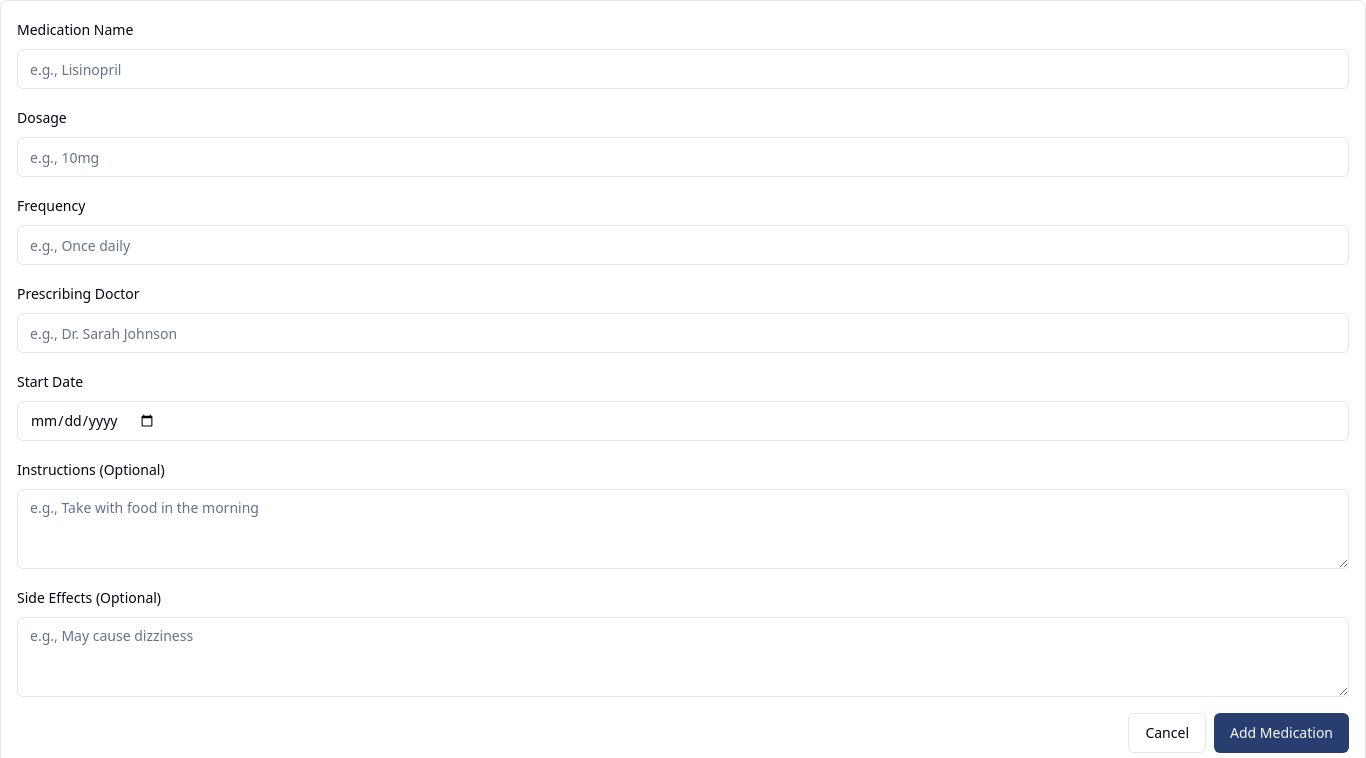
AddMedicationForm › shows validation errors for required fields
Click the button "Add Medication" at point(1282, 733), box [1214,713,1349,753]
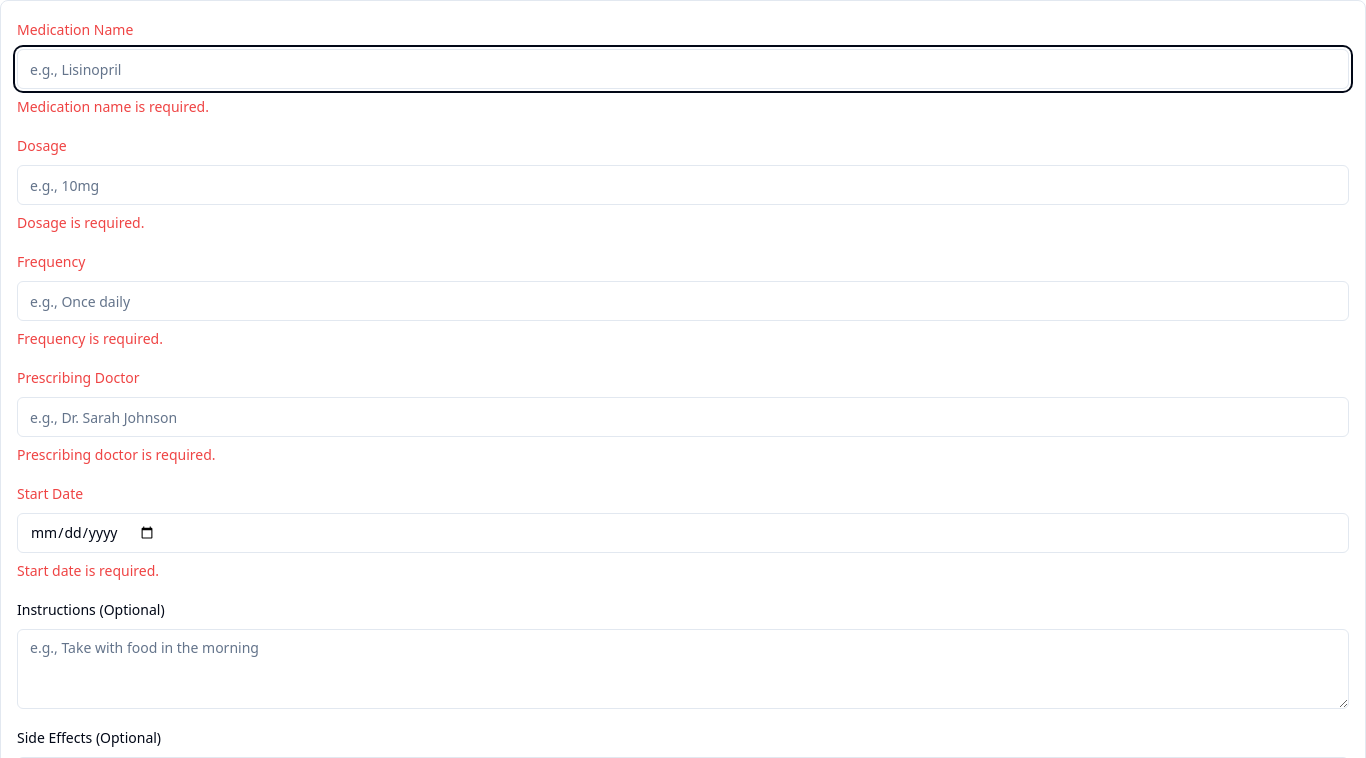
Now the text "Medication name is required." is shown, box [17,97,209,116]
Now the text "Dosage is required." is shown, box [17,213,144,232]
Now the text "Frequency is required." is shown, box [17,329,163,348]
